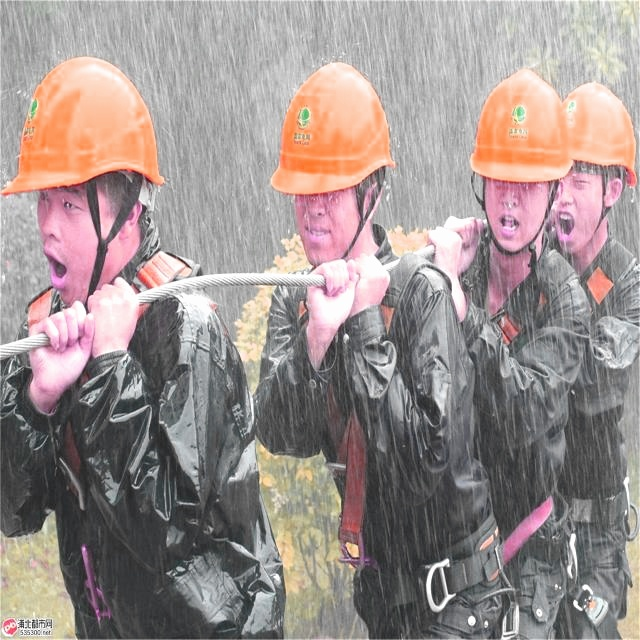Con_Casco: (270, 64, 396, 247)
